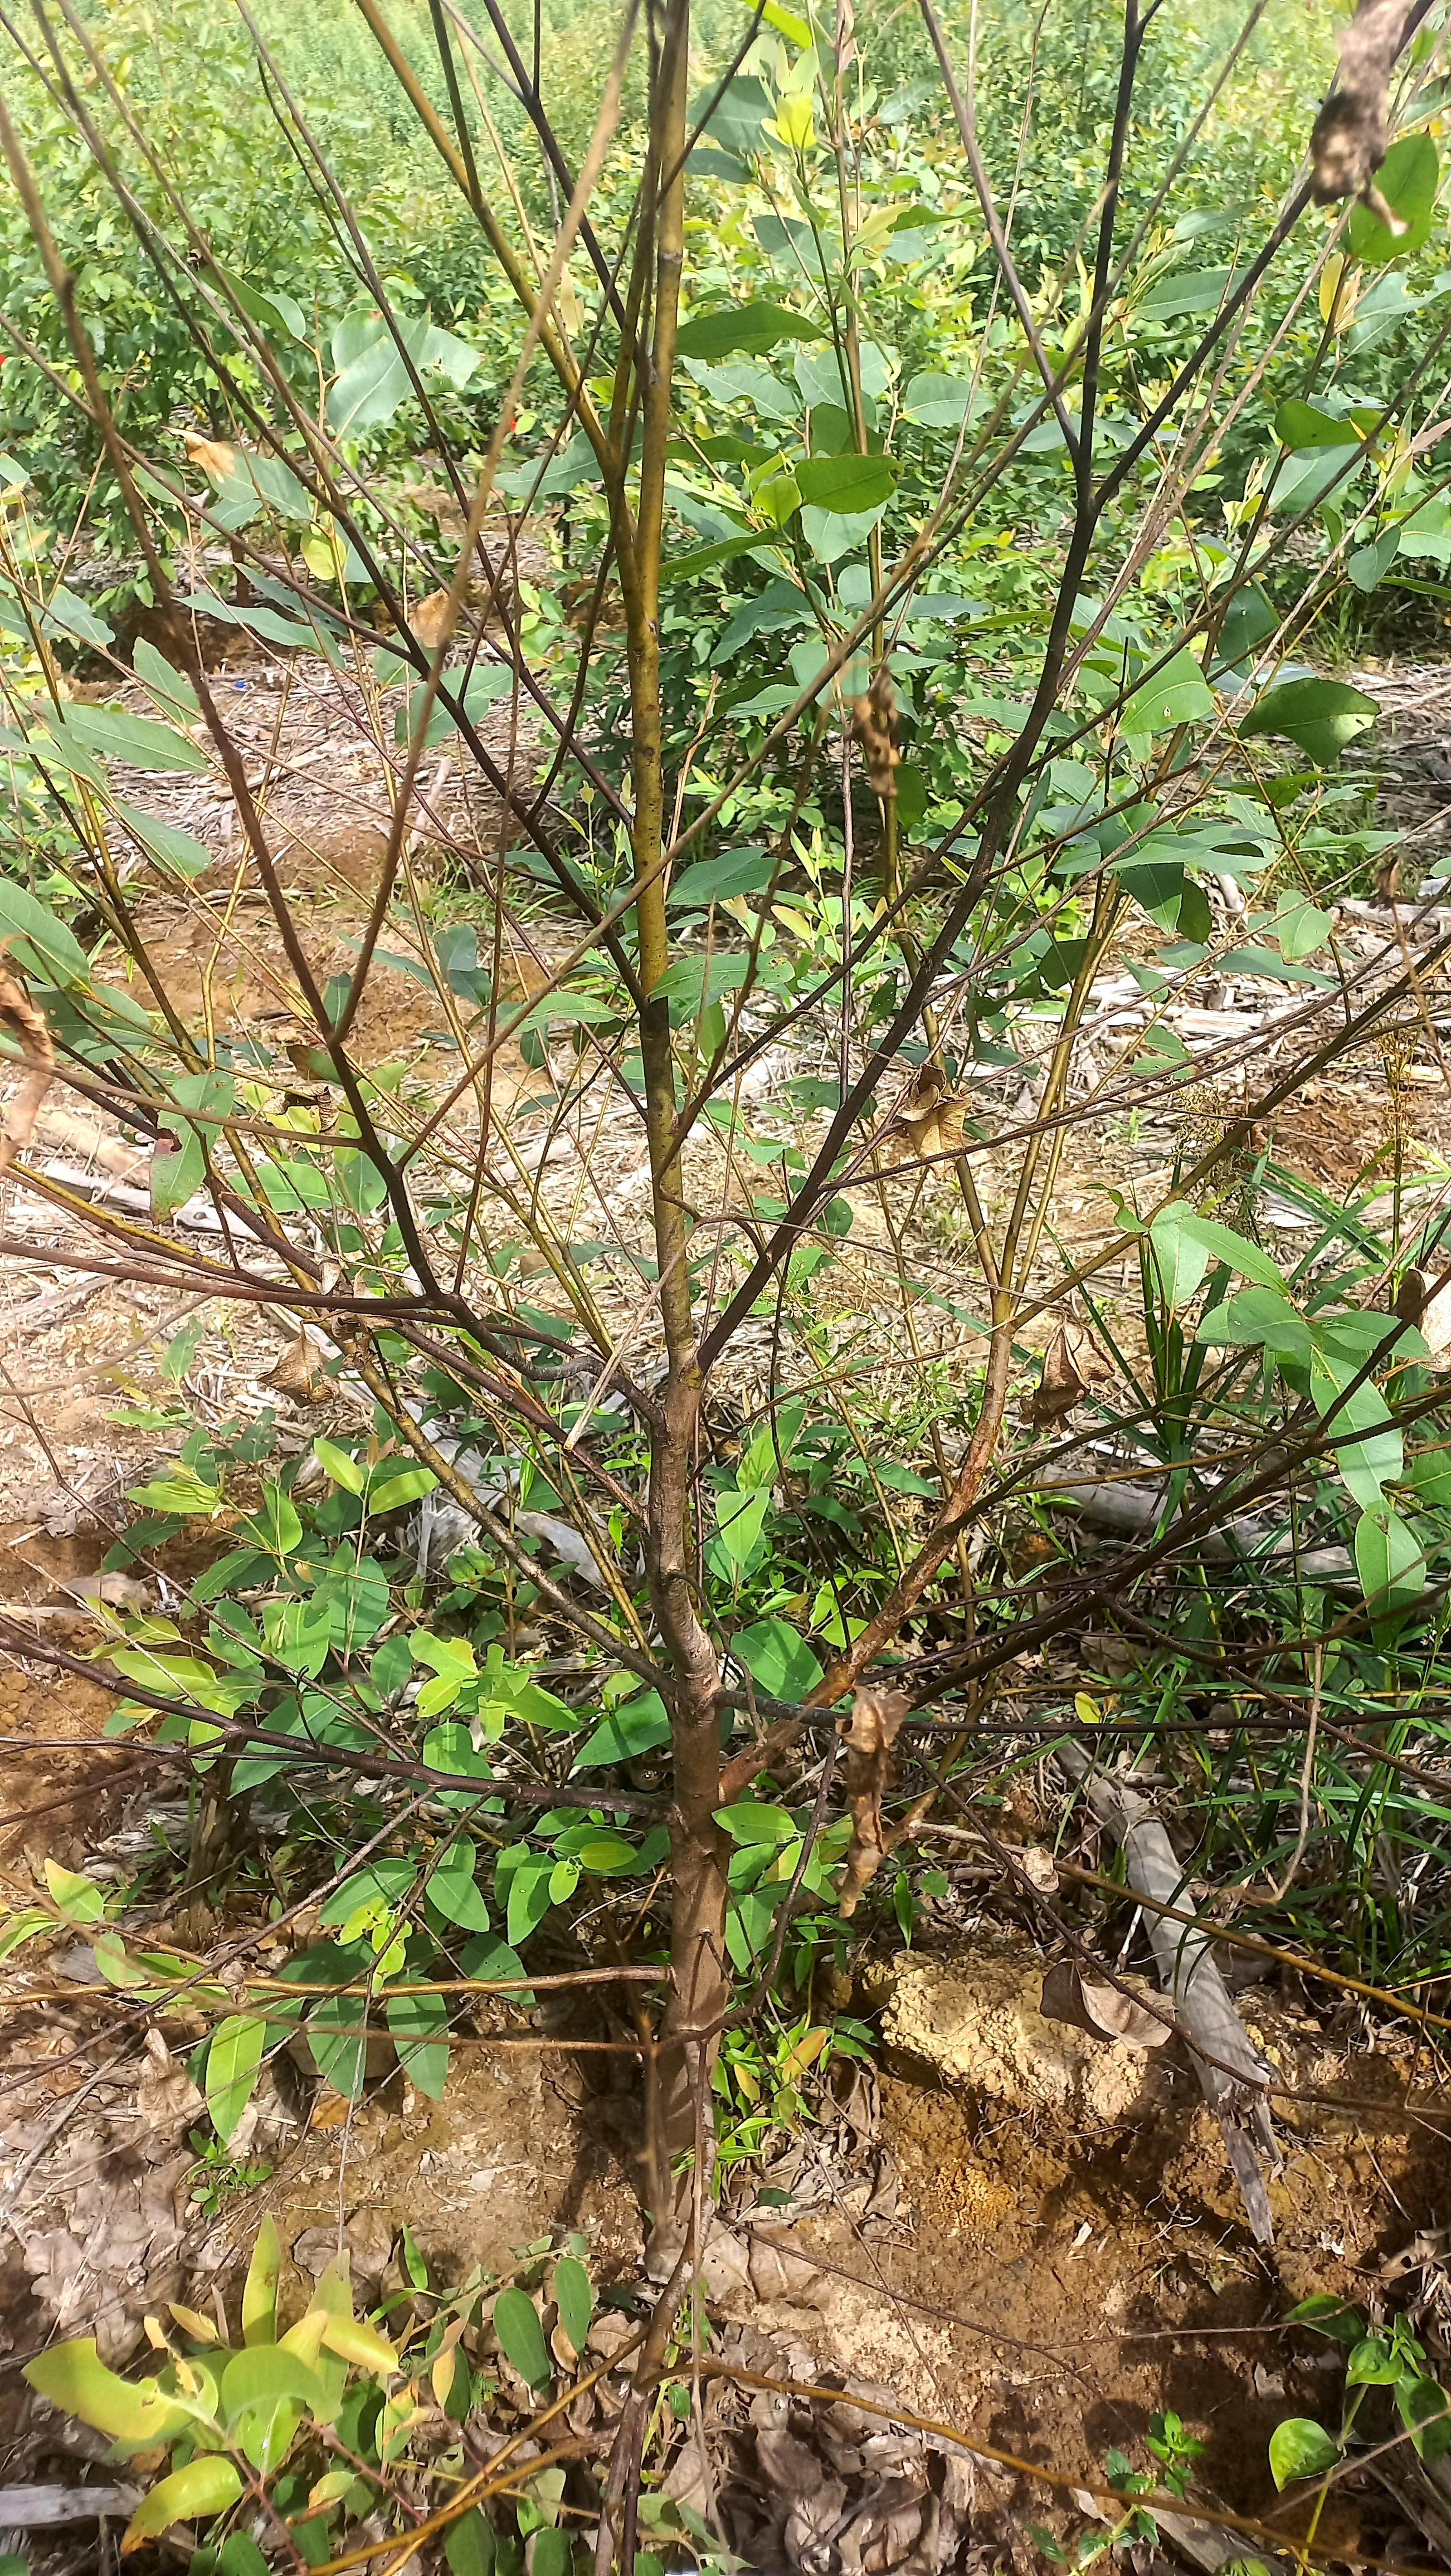Helopeltis-Withered Sprout: (1301, 0, 1451, 237), (1040, 1953, 1187, 2063), (835, 1675, 902, 1911), (0, 961, 69, 1175), (242, 1311, 347, 1410), (1023, 1306, 1083, 1433), (897, 1058, 963, 1175), (844, 679, 904, 798), (407, 582, 492, 655)
